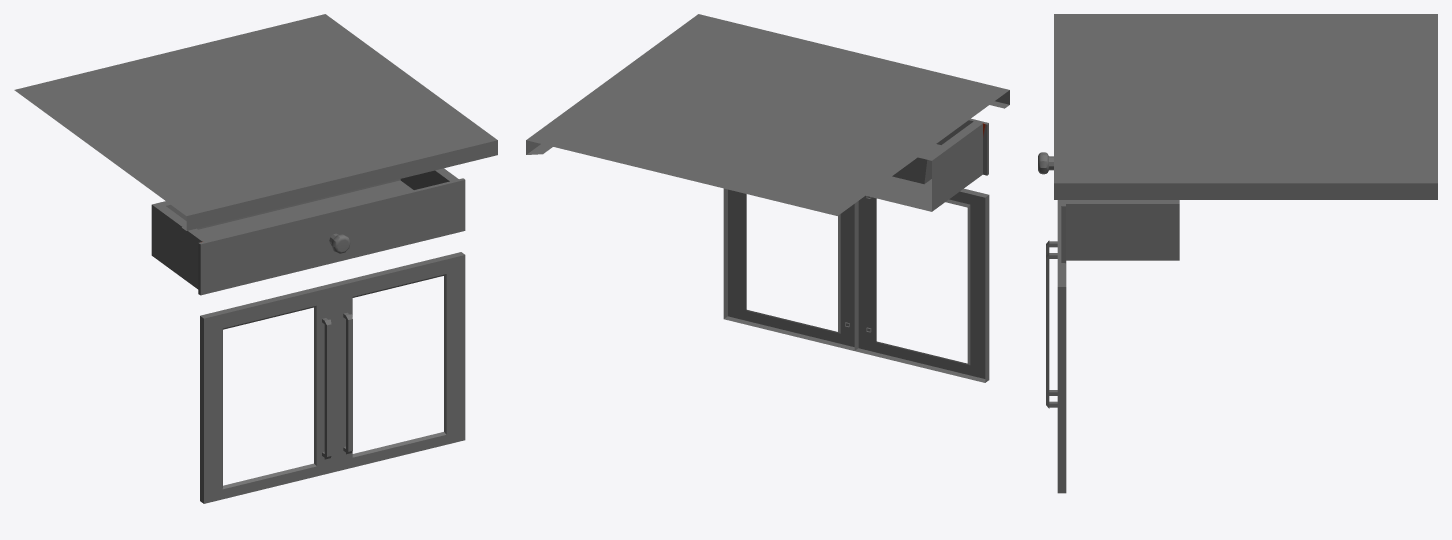
File: Drawer1.fbx
The picture shows the model from 3 angles, left to right: view 1: azimuth 30°, elevation 25°; view 2: azimuth 150°, elevation 25°; view 3: azimuth 270°, elevation 25°; orthographic projection. The views are drawn at different scales.
Parts seen in each view (by area): view 1: KitchenCounterModularB_CounterCabinetDoor_Left_CounterCabine, pCube13; view 2: KitchenCounterModularB_CounterCabinetDoor_Left_CounterCabine, pCube13; view 3: KitchenCounterModularB_CounterCabinetDoor_Left_CounterCabine, pCube13.
Part boxes in pixels (<box>): KitchenCounterModularB_CounterCabinetDoor_Left_CounterCabine: <box>14,14,497,503</box>; pCube13: <box>151,168,465,295</box>; KitchenCounterModularB_CounterCabinetDoor_Left_CounterCabine: <box>526,14,1009,382</box>; pCube13: <box>866,118,988,211</box>; KitchenCounterModularB_CounterCabinetDoor_Left_CounterCabine: <box>1046,14,1437,493</box>; pCube13: <box>1038,152,1179,263</box>.
Bounding box in the file's own units: 1.11 × 1.07 × 1.11.
